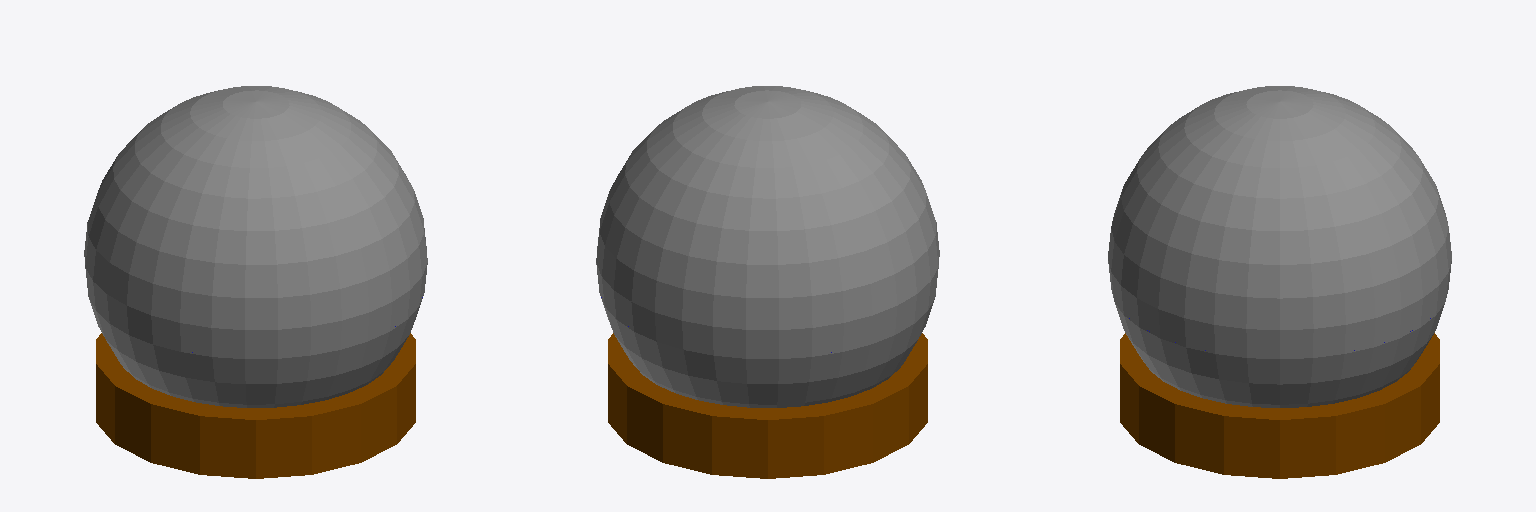
The model's file is globe2.obj.
The picture shows the model from 3 angles: view 1: azimuth 30°, elevation 25°; view 2: azimuth 150°, elevation 25°; view 3: azimuth 270°, elevation 25°; orthographic projection.
Visible parts, largest first — view 1: dome, base; view 2: dome, base; view 3: dome, base.
Boxes of the visible parts, x1,y1,x2,y2 form: dome: [84, 86, 427, 407]; base: [96, 333, 415, 478]; dome: [596, 86, 939, 407]; base: [608, 333, 927, 478]; dome: [1108, 86, 1451, 407]; base: [1120, 333, 1439, 478].
Size of the model in its own units: 110 by 109 by 110.